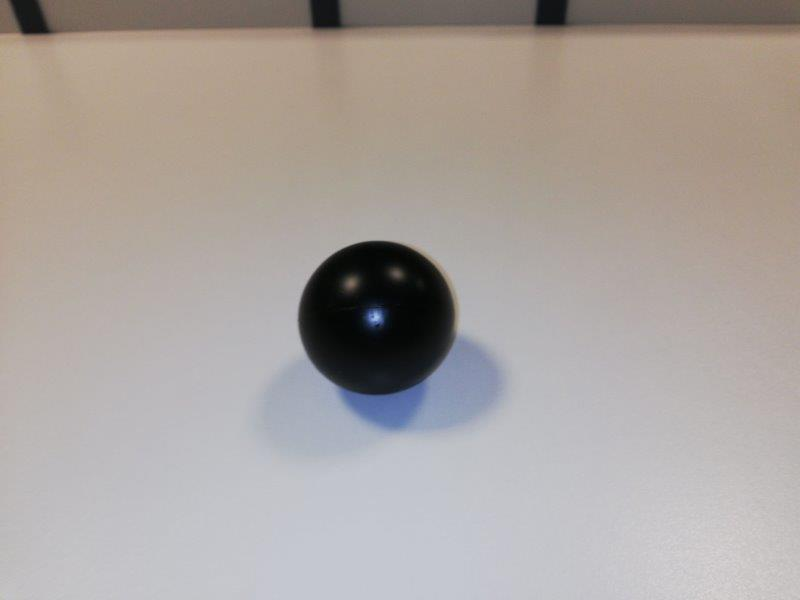nera: (299, 240, 454, 397)
